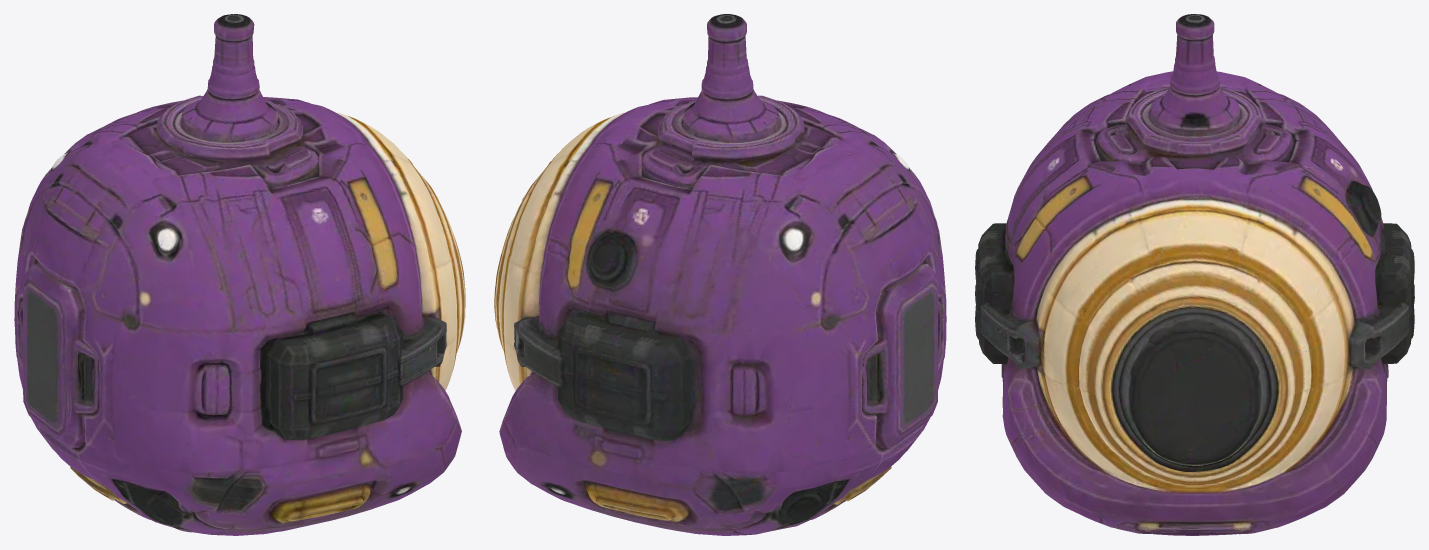
File: arc-lantern-lean.glb
The picture shows the model from 3 angles, left to right: view 1: azimuth 30°, elevation 25°; view 2: azimuth 150°, elevation 25°; view 3: azimuth 270°, elevation 25°; orthographic projection. The views are drawn at different scales.
Parts seen in each view (by area): view 1: chassis; view 2: chassis; view 3: chassis.
Part boxes in pixels (left/top/right/bottom): chassis: left=14, top=14, right=465, bottom=535; chassis: left=494, top=14, right=946, bottom=535; chassis: left=975, top=14, right=1414, bottom=535.
Size of the model in its own units: 0.9609 by 1.15 by 0.9897.
Materials: 1 (1 with a texture image).
